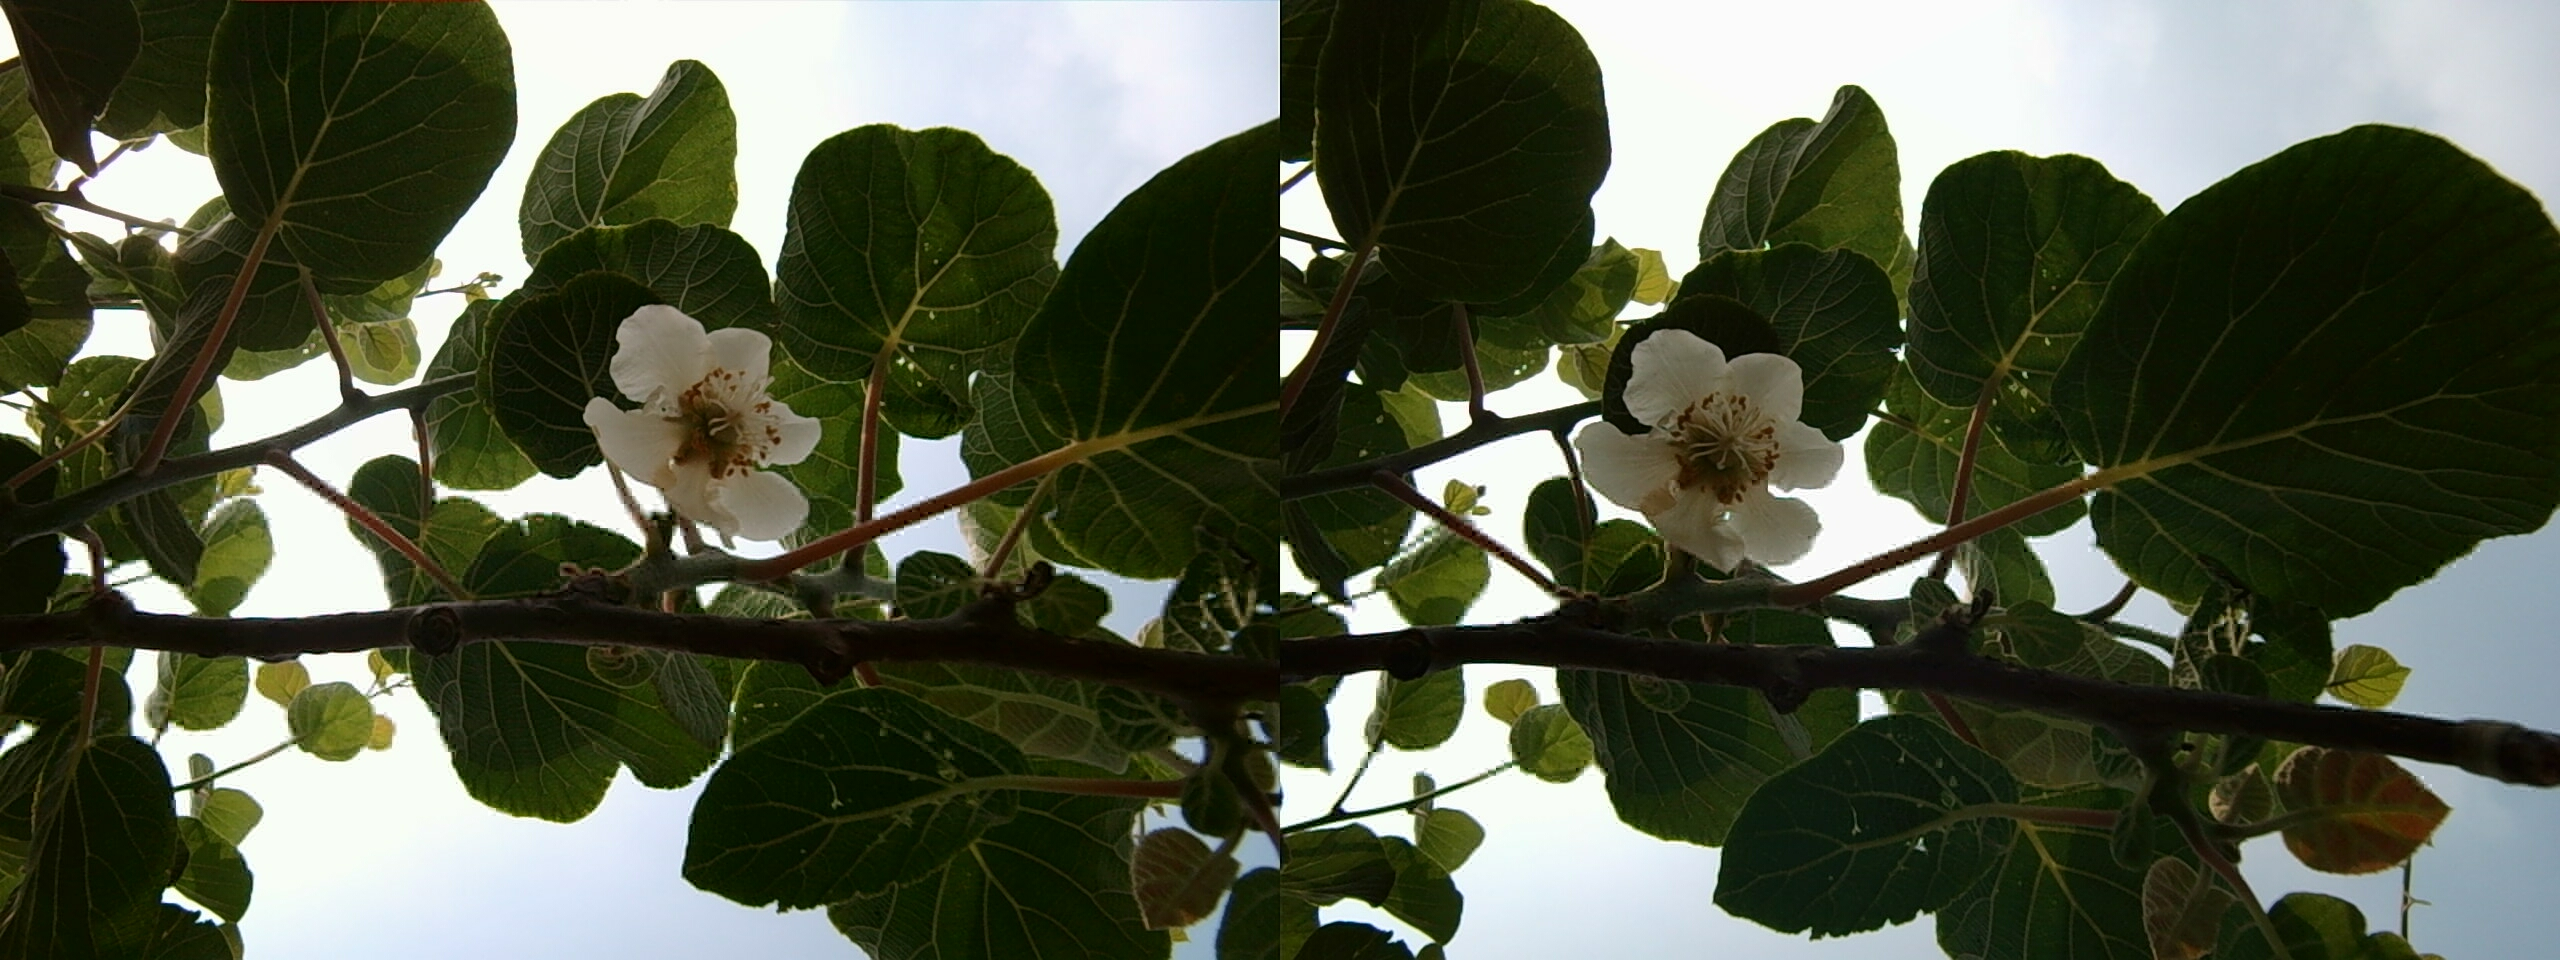flower: (1589, 323, 1845, 563), (589, 304, 824, 536)
